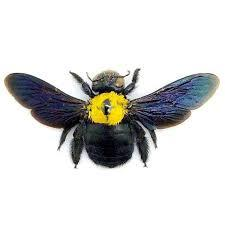Xylocopa: (6, 61, 218, 168)
